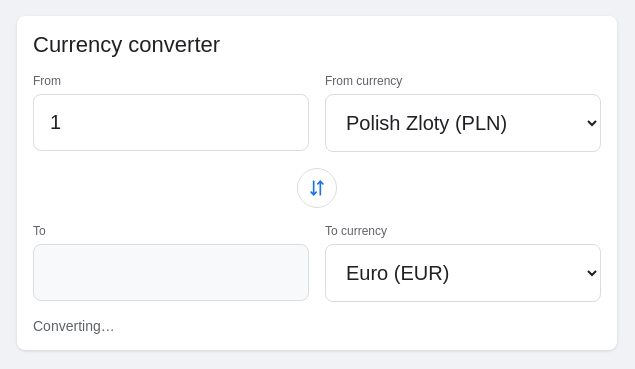
Test: CurrencyConverter › swaps the selected currencies
expect the dropdown labelled "From currency" is shown: met, box [325,94,601,152]
Click the button named "Swap currencies" at (317, 188), box [297,168,337,208]
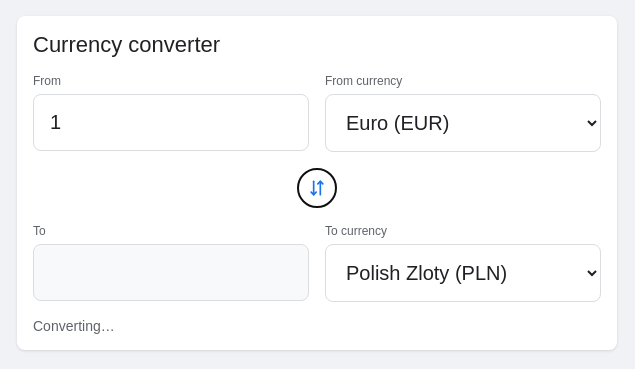
expect the dropdown labelled "From currency" shows "Euro (EUR)": met, box [325,94,601,152]
expect the dropdown labelled "To currency" shows "Polish Zloty (PLN)": met, box [325,244,601,302]
